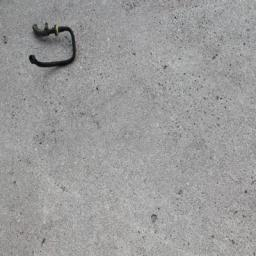FOD: (28, 22, 81, 72)
